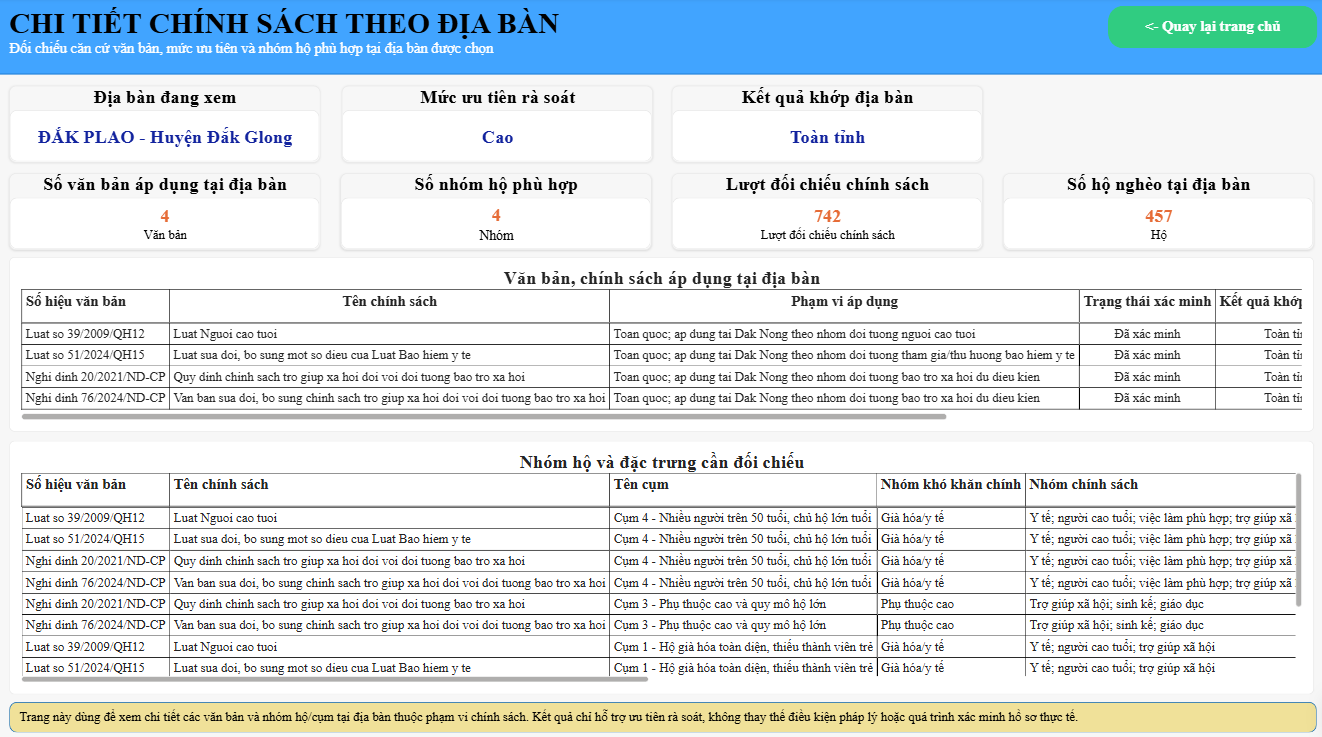

This screenshot's page, from the dashboard's own definition file:
{"tool":"powerbi","page":{"name":"Chi tiết chính sách địa bàn","canvas":[1920,1080],"ordinal":6},"visuals":[{"type":"shape","box":[0,0,1920,112],"z":0},{"type":"actionButton","box":[1662.9,12.9,242.9,61.4],"z":1000},{"type":"textbox","box":[16.7,13.3,2588.3,98.3],"z":2000},{"type":"cardVisual","title":"Địa bàn đang xem","fields":{"Data":["_Measures.Địa bàn đang xem"]},"box":[17.1,128.6,450,111.4],"z":3000},{"type":"cardVisual","title":"Mức ưu tiên rà soát","fields":{"Data":["_Measures.Mức ưu tiên địa bàn"]},"box":[497.1,128.6,450,111.4],"z":4000},{"type":"cardVisual","title":"Kết quả khớp địa bàn","fields":{"Data":["_Measures.Kết quả khớp địa bàn"]},"box":[975.7,128.6,450,111.4],"z":5000},{"type":"cardVisual","title":"Số văn bản áp dụng tại địa bàn","fields":{"Data":["_Measures.Số văn bản áp dụng tại địa bàn"]},"box":[17.1,254.3,450,111.4],"z":6000},{"type":"cardVisual","title":"Số nhóm hộ phù hợp","fields":{"Data":["_Measures.Số nhóm hộ phù hợp"]},"box":[496.7,254.3,450,111.4],"z":7000},{"type":"cardVisual","title":"Lượt đối chiếu chính sách","fields":{"Data":["_Measures.Số hộ phù hợp đặc trưng"]},"box":[976.2,254.3,450,111.4],"z":8000},{"type":"cardVisual","title":"Số hộ nghèo tại địa bàn","fields":{"Data":["_Measures.Số hộ nghèo tại địa bàn"]},"box":[1455.7,254.3,450,111.4],"z":9000},{"type":"tableEx","title":"Văn bản, chính sách cần đối chiếu tại địa bàn","fields":{"Values":["policy_area_scope_validation.SO_HIEU_VAN_BAN","policy_area_scope_validation.TEN_CHINH_SACH","policy_area_scope_validation.CAN_CU_DIEU_KHOAN_HO_TRO","policy_area_scope_validation.DOI_TUONG_AP_DUNG","policy_area_scope_validation.GHI_CHU_DIEU_KIEN","policy_area_scope_validation.PHAM_VI_AP_DUNG"]},"box":[17.1,377.1,1888.6,252.9],"z":10000},{"type":"tableEx","title":"Nhóm hộ và đặc trưng cần đối chiếu","fields":{"Values":["policy_area_feature_fit.SO_HIEU_VAN_BAN","policy_area_feature_fit.TEN_CHINH_SACH","policy_area_feature_fit.CAN_CU_DIEU_KHOAN_HO_TRO","policy_area_feature_fit.TEN_CUM","policy_area_feature_fit.YEU_TO_NOI_BAT","policy_area_feature_fit.GHI_CHU_PHU_HOP_DAC_TRUNG"]},"box":[17.1,642.9,1888.6,367.1],"z":11000},{"type":"shape","box":[17.1,1021.4,1892.9,44.3],"z":12000},{"type":"textbox","box":[30,1031.4,1875.7,34.3],"z":13000},{"type":"actionButton","box":[1606.7,13.3,303.3,61.7],"z":14000}]}

Visuals, with their boxes in screenshot pixels (x1, y1, x2, y2), scaled from the page's 1920x1080 canvas onto the 1322x737 screenshot:
shape: detection(0, 0, 1321, 76)
actionButton: detection(1145, 9, 1312, 51)
textbox: detection(11, 9, 1321, 76)
"Địa bàn đang xem" cardVisual: detection(12, 88, 322, 164)
"Mức ưu tiên rà soát" cardVisual: detection(342, 88, 652, 164)
"Kết quả khớp địa bàn" cardVisual: detection(672, 88, 982, 164)
"Số văn bản áp dụng tại địa bàn" cardVisual: detection(12, 174, 322, 250)
"Số nhóm hộ phù hợp" cardVisual: detection(342, 174, 652, 250)
"Lượt đối chiếu chính sách" cardVisual: detection(672, 174, 982, 250)
"Số hộ nghèo tại địa bàn" cardVisual: detection(1002, 174, 1312, 250)
"Văn bản, chính sách cần đối chiếu tại địa bàn" tableEx: detection(12, 257, 1312, 430)
"Nhóm hộ và đặc trưng cần đối chiếu" tableEx: detection(12, 439, 1312, 689)
shape: detection(12, 697, 1315, 727)
textbox: detection(21, 704, 1312, 727)
actionButton: detection(1106, 9, 1315, 51)
